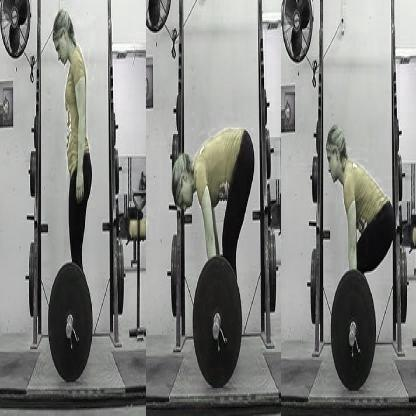Barbell: (212, 321, 221, 342), (65, 321, 73, 341), (348, 329, 356, 347)
